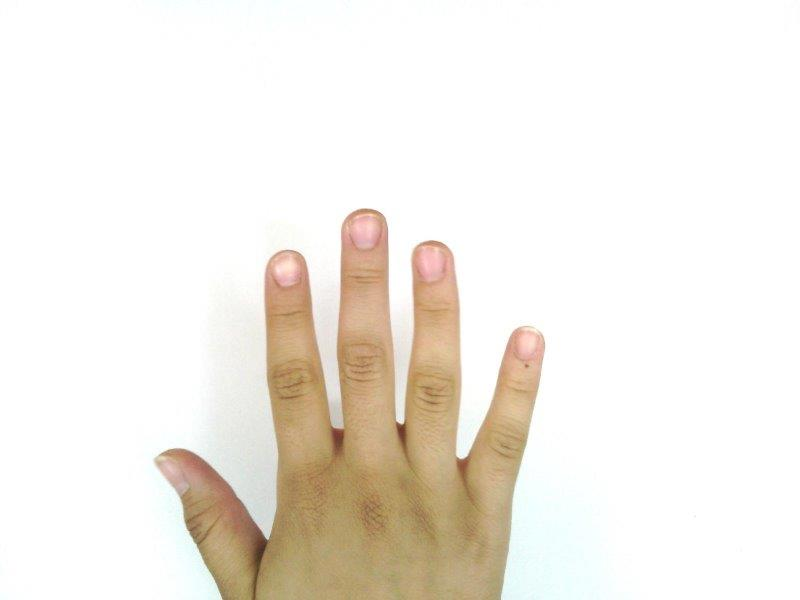hand: (153, 209, 546, 600)
